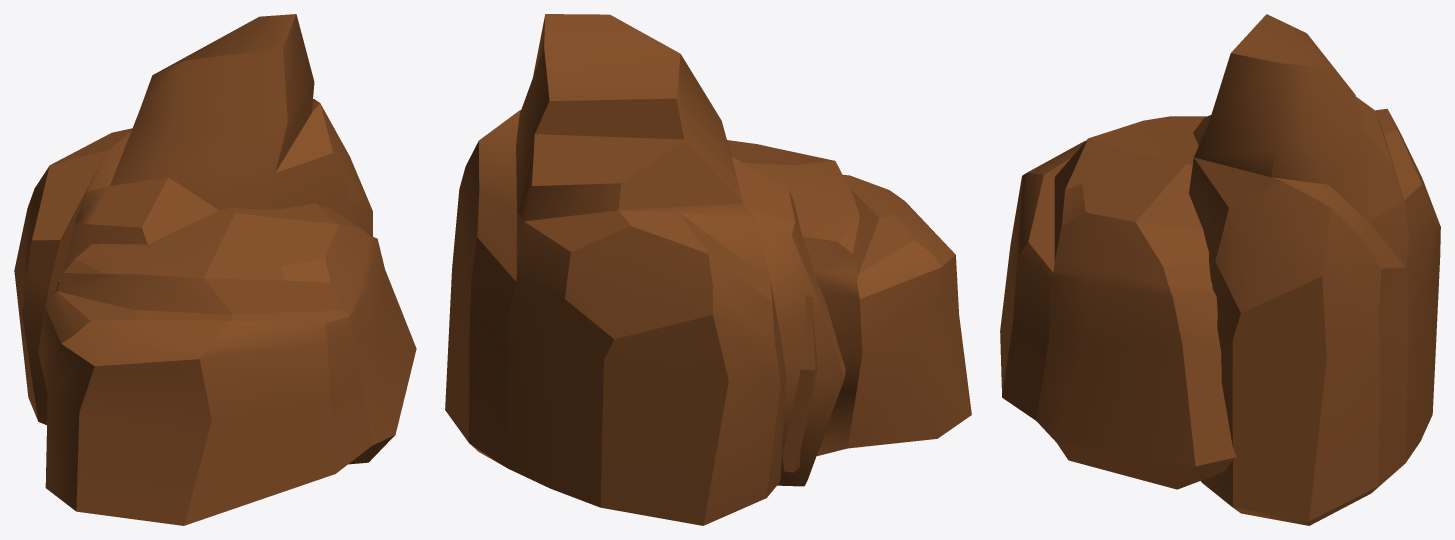
The model's file is rock_large_2.glb.
The picture shows the model from 3 angles, left to right: view 1: azimuth 30°, elevation 25°; view 2: azimuth 150°, elevation 25°; view 3: azimuth 270°, elevation 25°; orthographic projection. The views are drawn at different scales.
Visible parts, largest first — view 1: Rock_Large_2; view 2: Rock_Large_2; view 3: Rock_Large_2.
Boxes of the visible parts, <box> form: Rock_Large_2: <box>14,14,416,525</box>; Rock_Large_2: <box>445,14,971,525</box>; Rock_Large_2: <box>1000,14,1440,525</box>.
Size of the model in its own units: 8.54 by 8.21 by 7.62.
Materials: 1 (1 with a texture image).
